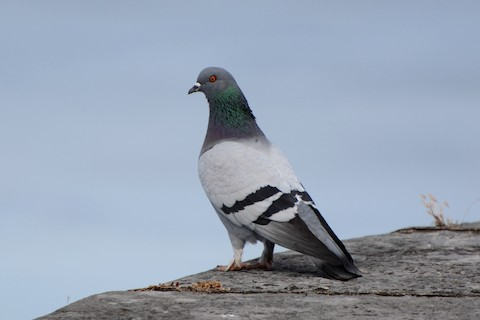pigeon: (179, 63, 369, 285)
